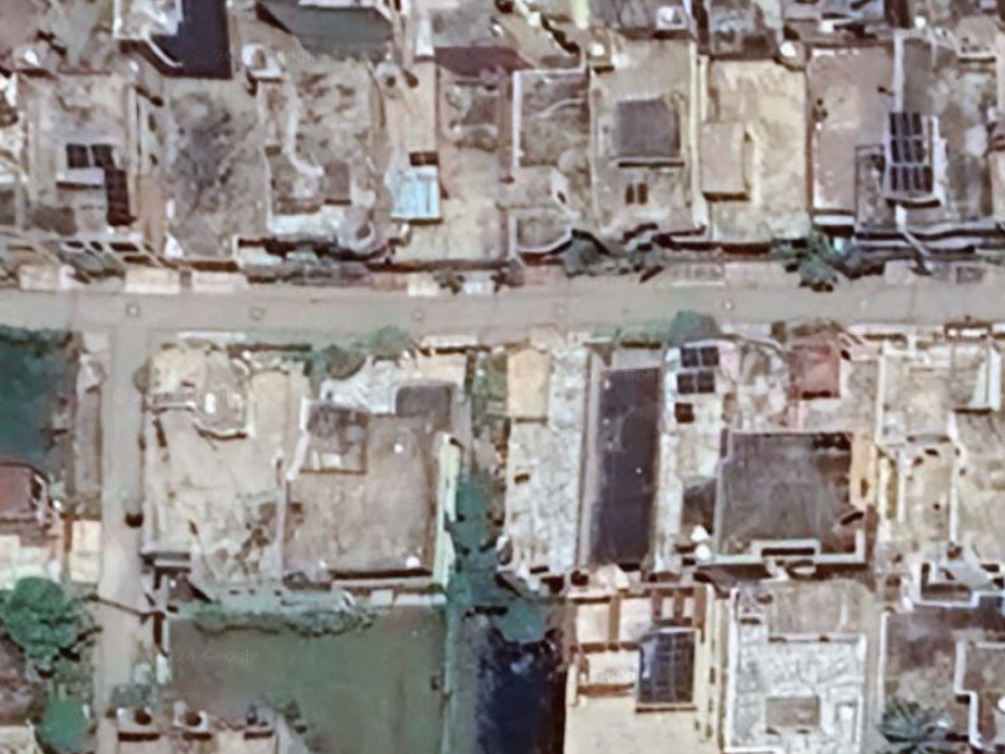solar-panel: (639, 626, 690, 709), (894, 107, 935, 190), (103, 172, 132, 219), (69, 145, 111, 167), (676, 373, 715, 392), (684, 342, 716, 363), (667, 405, 695, 420)
